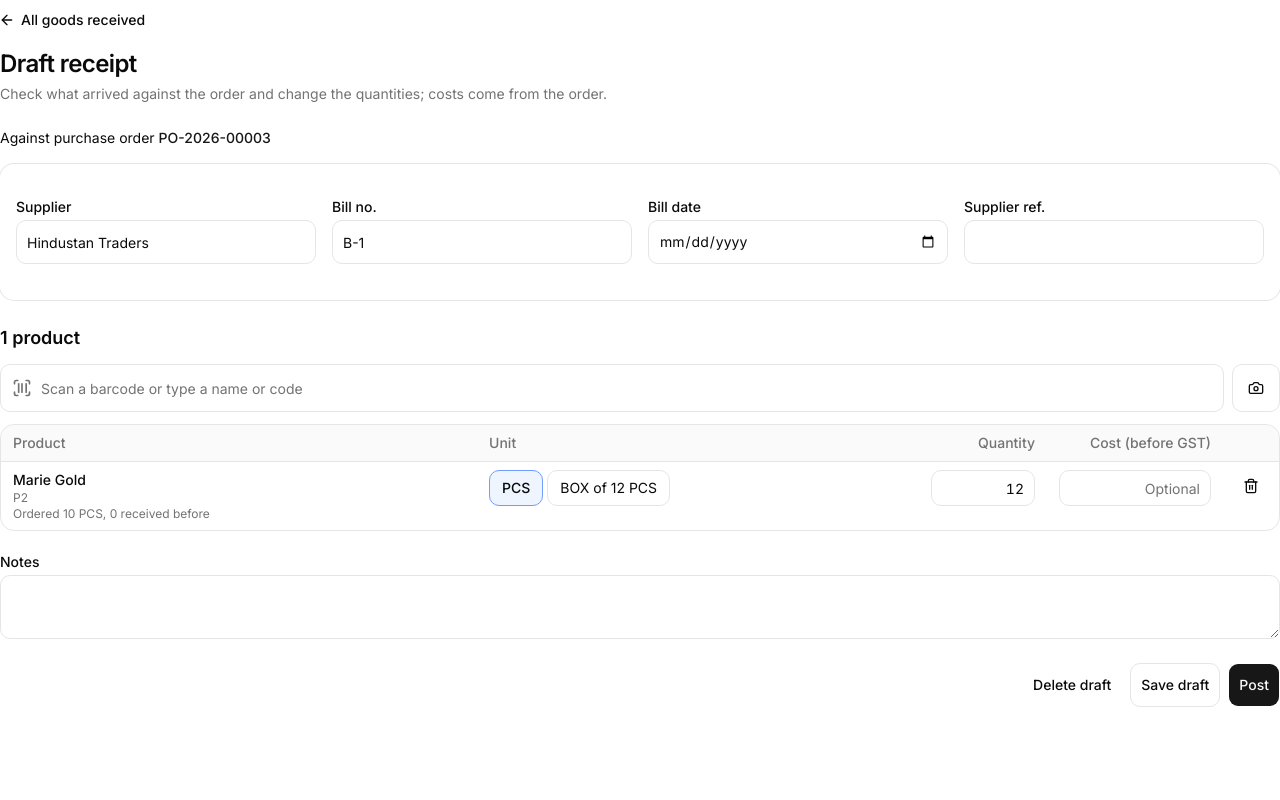
it: receiving against a purchase order (purchasing on) › shows the order and what was ordered, and asks before receiving more than ordered
This screenshot has width=1280, height=800.
Expected: the text "Ordered 10 PCS, 0 received before" is shown, 13,506 -> 210,521
Click the button "Post".
click(1254, 685)  # box 1228,663 -> 1279,707
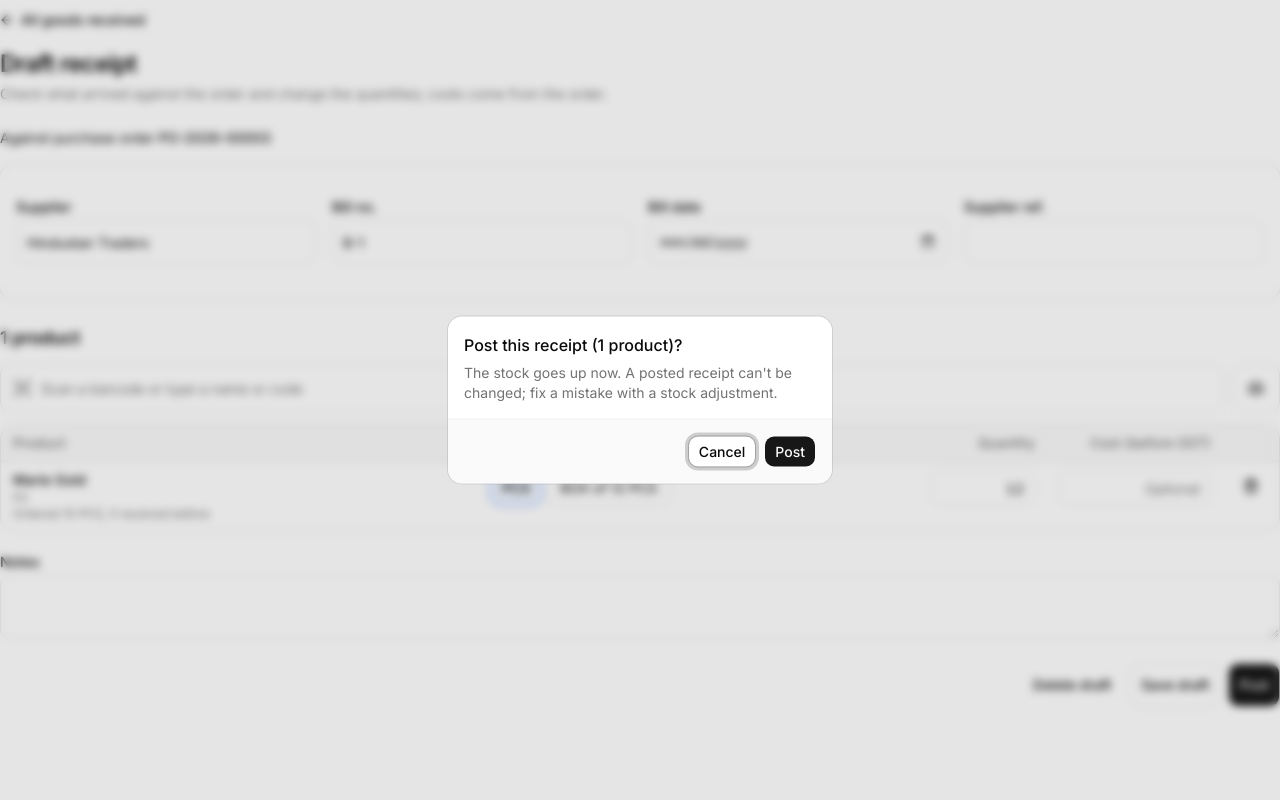
Click the button "Post".
click(790, 452)  # box 764,436 -> 816,468
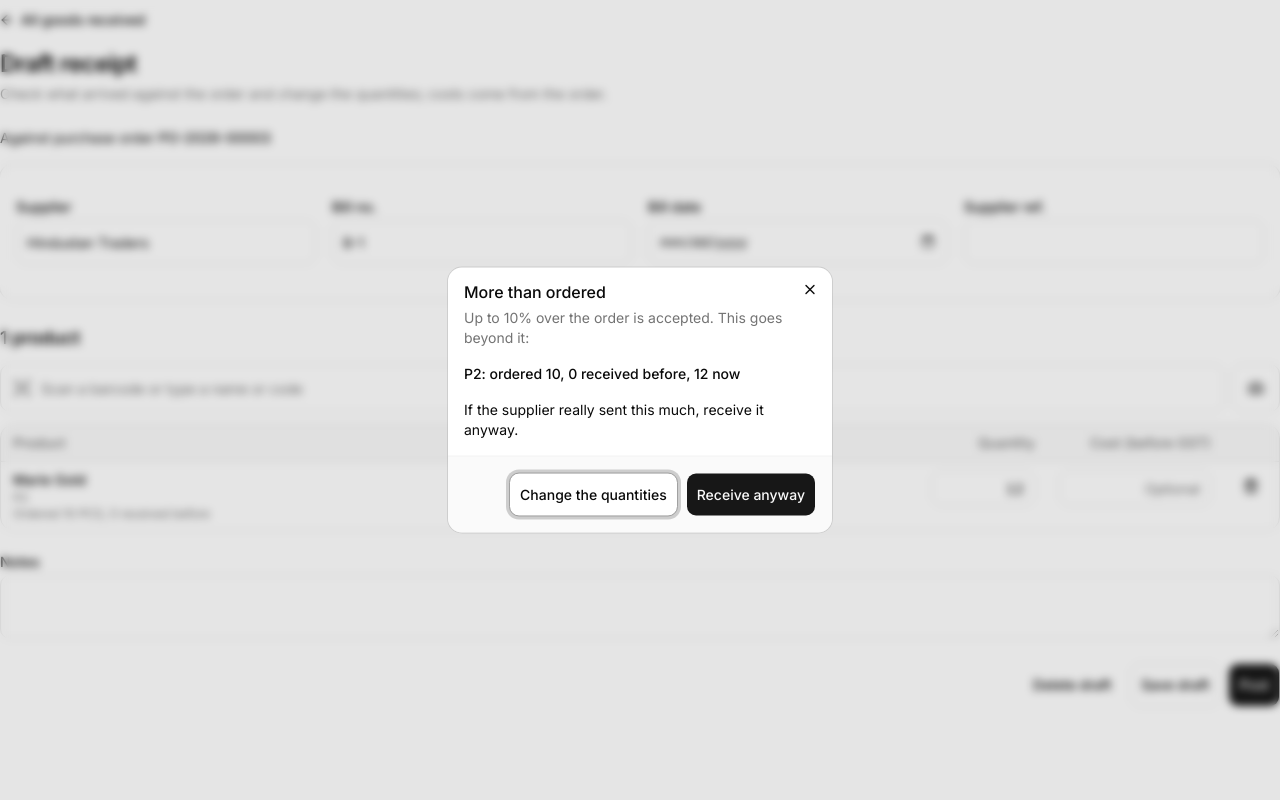
Now the list item "P2: ordered 10, 0 received before, 12 now" is shown, box 464,364 -> 740,382
Click the button "Receive anyway".
click(751, 494)  # box 686,472 -> 816,516
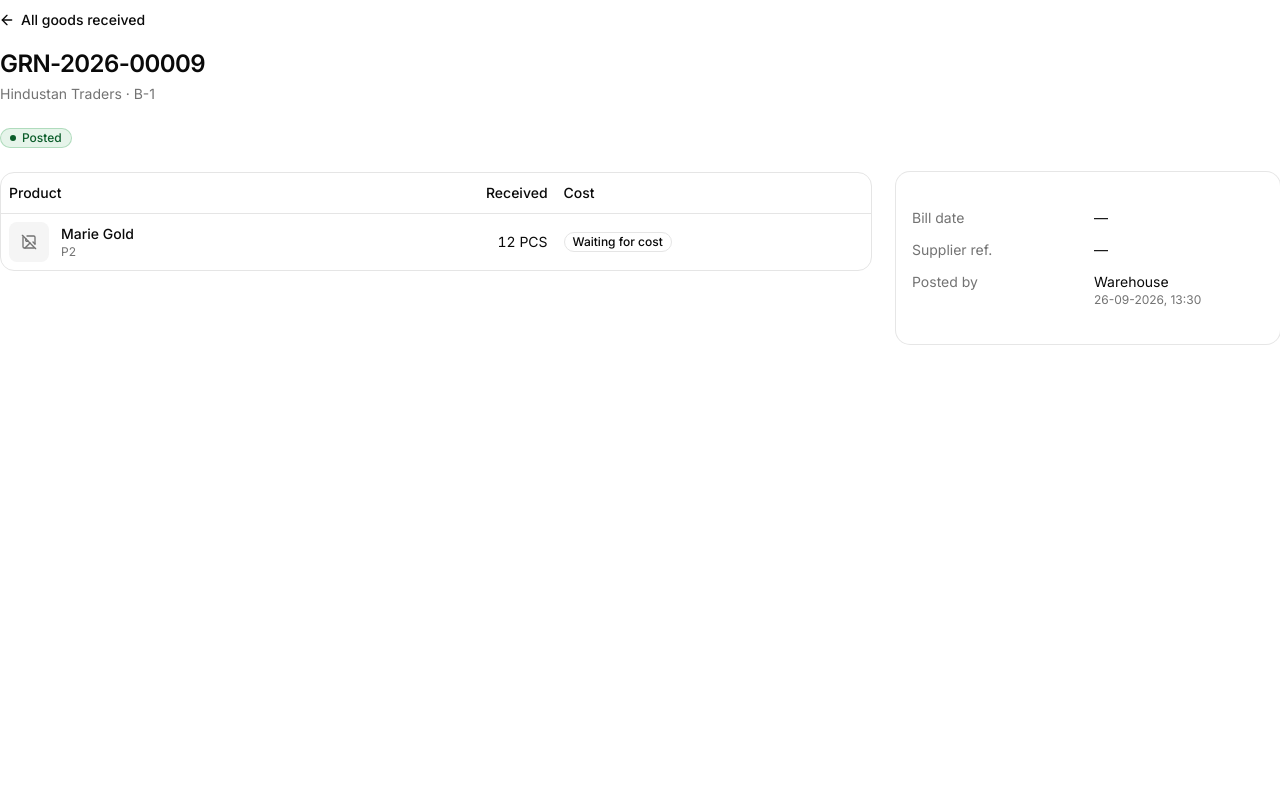
Now the heading "GRN-2026-00009" is shown, box 0,48 -> 205,80
